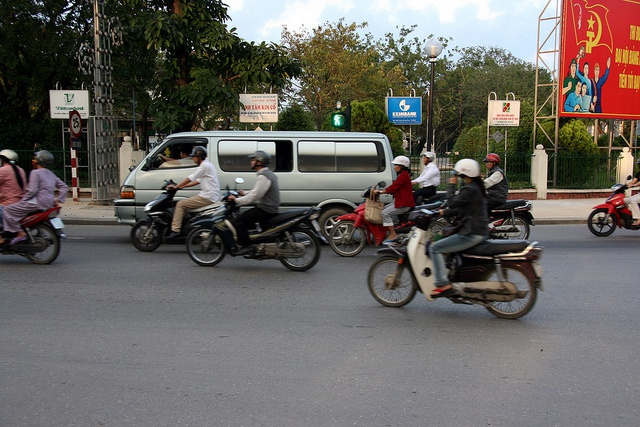non-vehicle: (367, 201, 544, 320), (186, 176, 329, 273), (327, 180, 445, 257), (130, 179, 238, 251), (0, 205, 66, 265), (587, 174, 639, 236), (486, 198, 537, 242), (406, 171, 444, 205)
